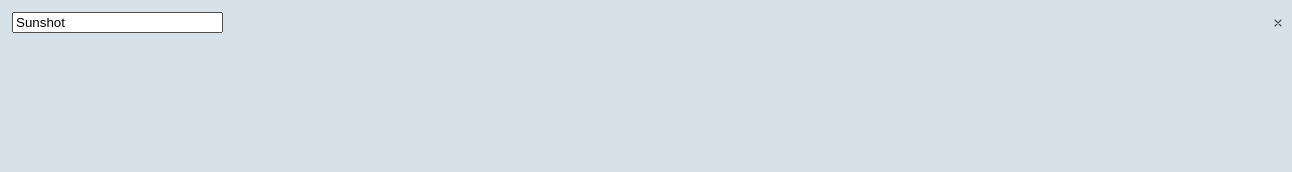
Test: ClearSearchInput keyboard undo › Cmd+Z restores on macOS-style shortcuts
Click the button named "Clear filter".
click(1278, 22)  # box x1=1268 y1=12 x2=1288 y2=32
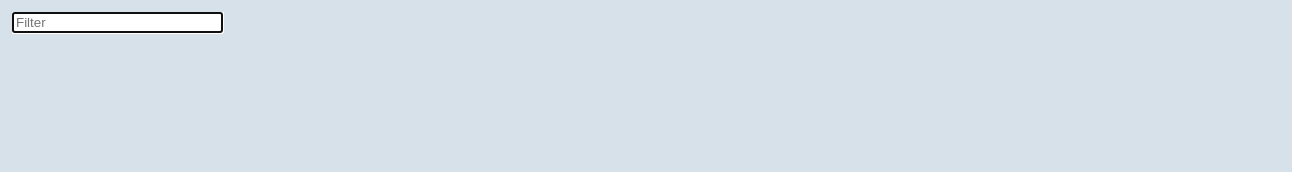
Press Z in the search field with placeholder "Filter", box x1=12 y1=12 x2=223 y2=33
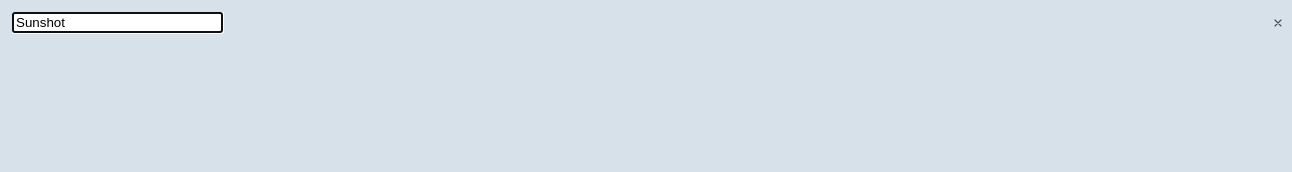
Check: the search field holds "Sunshot", box x1=12 y1=12 x2=223 y2=33
Check: the button named "Clear filter" is shown, box x1=1268 y1=12 x2=1288 y2=32
